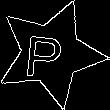P_N: (30, 27, 72, 80)
